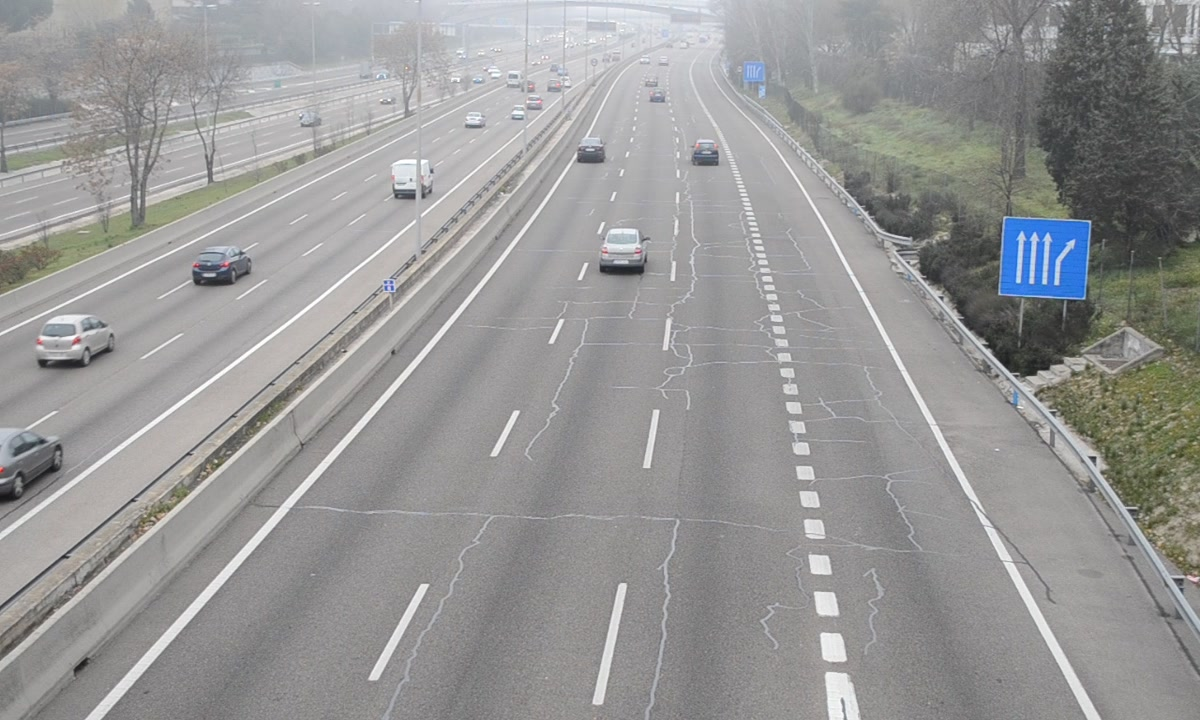car: (601, 228, 645, 270), (691, 139, 720, 166), (577, 138, 605, 164)
